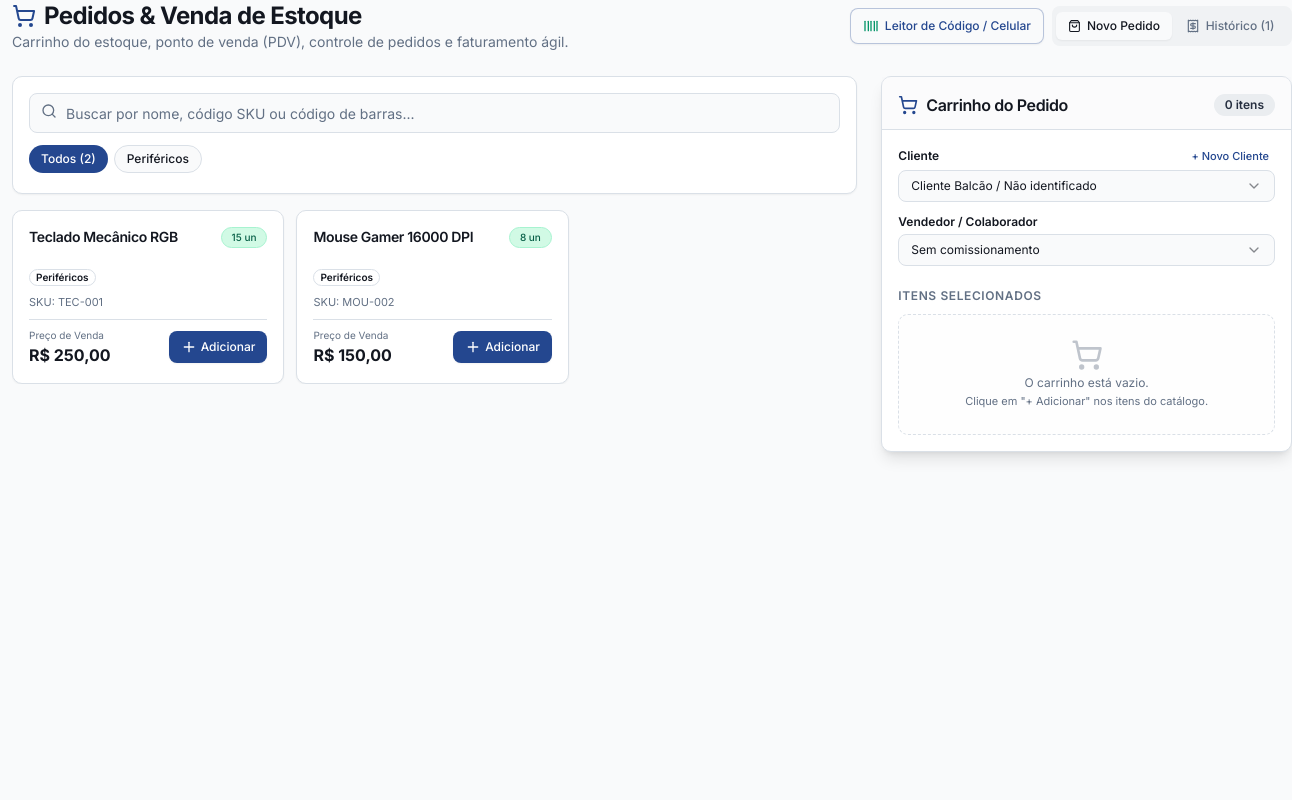
Orders / PDV Component › deve adicionar produto ao carrinho e calcular o total do pedido
Expected: the heading "Teclado Mecânico RGB" is shown, [29,228,178,245]
Note: Clica no botão de adicionar
Click the button "Adicionar" next to "R$ 250,00": point(218, 347) [169,331,267,363]
(page scrolled)
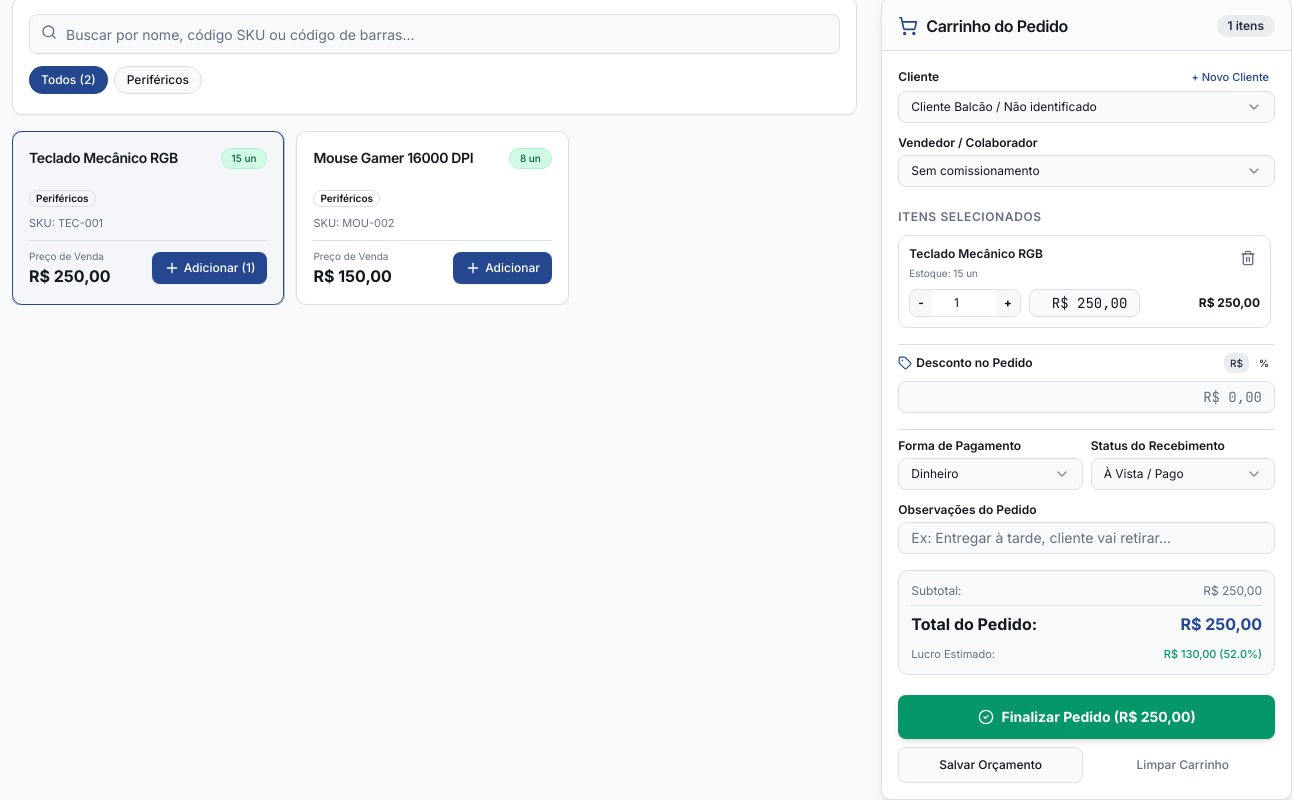
Expected: the text "1 itens" is shown, [1217,15,1275,37]
Expected: the button "Finalizar Pedido (R$ 250,00)" is shown, [898,695,1275,739]
